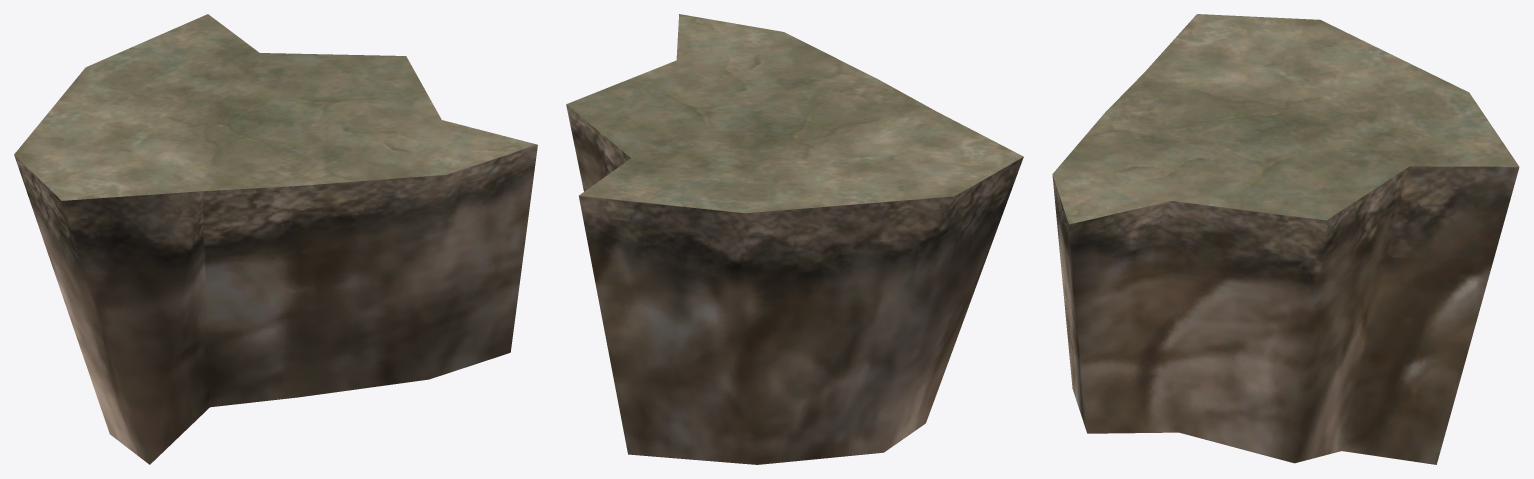
The model's file is ANIMATEDINSTANCES_ROCKFALL_03__BA.fbx.
3 views of the same model, side by side, from view 1: azimuth 30°, elevation 25°; view 2: azimuth 150°, elevation 25°; view 3: azimuth 270°, elevation 25° (orthographic). The views are drawn at different scales.
Parts seen in each view (by area): view 1: ANIMATEDINSTANCES_ROCKFALL_03__BA; view 2: ANIMATEDINSTANCES_ROCKFALL_03__BA; view 3: ANIMATEDINSTANCES_ROCKFALL_03__BA.
Part boxes in pixels (box(x1,y1,x2,y2)): ANIMATEDINSTANCES_ROCKFALL_03__BA: box(14, 14, 537, 464); ANIMATEDINSTANCES_ROCKFALL_03__BA: box(566, 14, 1023, 464); ANIMATEDINSTANCES_ROCKFALL_03__BA: box(1052, 14, 1519, 464).
Bounding box in the file's own units: 16272 × 10936 × 15253.
2 materials, 2 textured.
